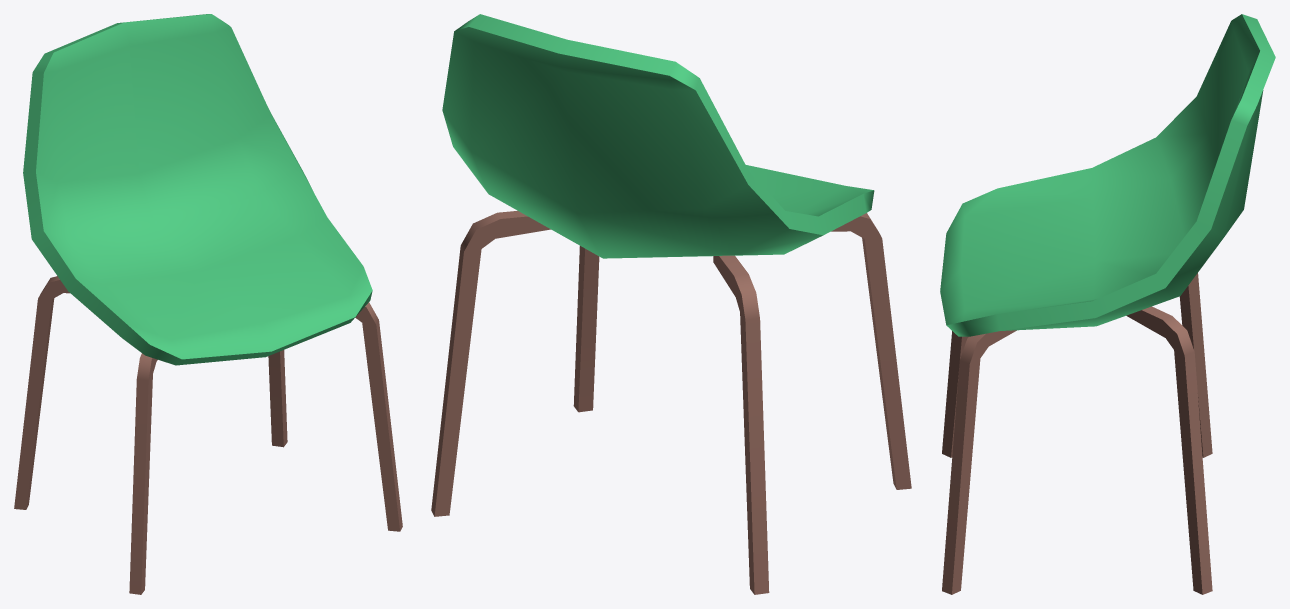
File: Silla.obj
3 views of the same model, side by side, from view 1: azimuth 30°, elevation 25°; view 2: azimuth 150°, elevation 25°; view 3: azimuth 270°, elevation 25° (orthographic). The views are drawn at different scales.
Parts seen in each view (by area): view 1: kitchen_chair_001; view 2: kitchen_chair_001; view 3: kitchen_chair_001.
Boxes of the visible parts, left/top/right/bottom form: kitchen_chair_001: left=14, top=14, right=402, bottom=594; kitchen_chair_001: left=431, top=14, right=911, bottom=594; kitchen_chair_001: left=940, top=14, right=1275, bottom=594.
Size of the model in its own units: 4.21 by 6.37 by 4.11.
Materials: 1 (1 with a texture image).
